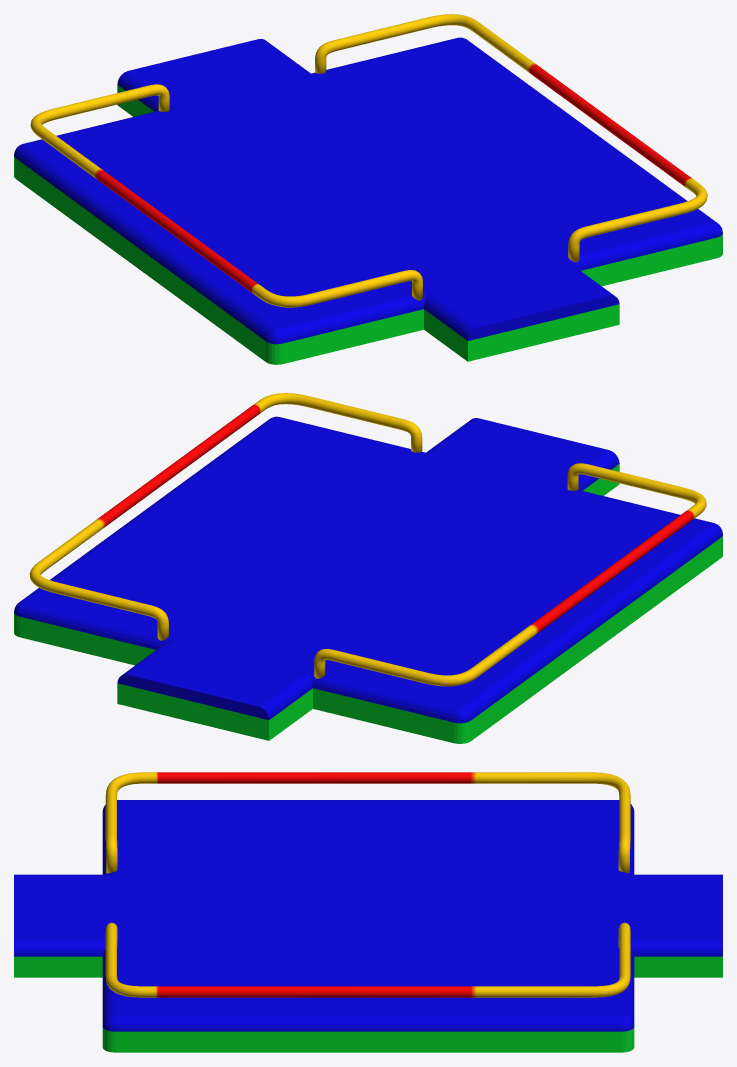
File: 2 with textures.fbx
The picture shows the model from 3 angles, top to bottom: view 1: azimuth 30°, elevation 25°; view 2: azimuth 150°, elevation 25°; view 3: azimuth 270°, elevation 25°; orthographic projection.
Parts seen in each view (by area): view 1: Cube.002, pCylinder18.001, pCylinder18; view 2: Cube.002, pCylinder18.001, pCylinder18; view 3: Cube.002, pCylinder18, pCylinder18.001.
Boxes of the visible parts, x1,y1,x2,y2 form: Cube.002: (14, 37, 722, 364); pCylinder18.001: (315, 14, 707, 262); pCylinder18: (30, 84, 422, 307); Cube.002: (14, 416, 722, 743); pCylinder18.001: (29, 393, 422, 640); pCylinder18: (314, 463, 706, 686); Cube.002: (14, 800, 722, 1052); pCylinder18: (105, 772, 630, 873); pCylinder18.001: (105, 922, 630, 997).
Size of the model in its own units: 1500 by 189 by 2000.
